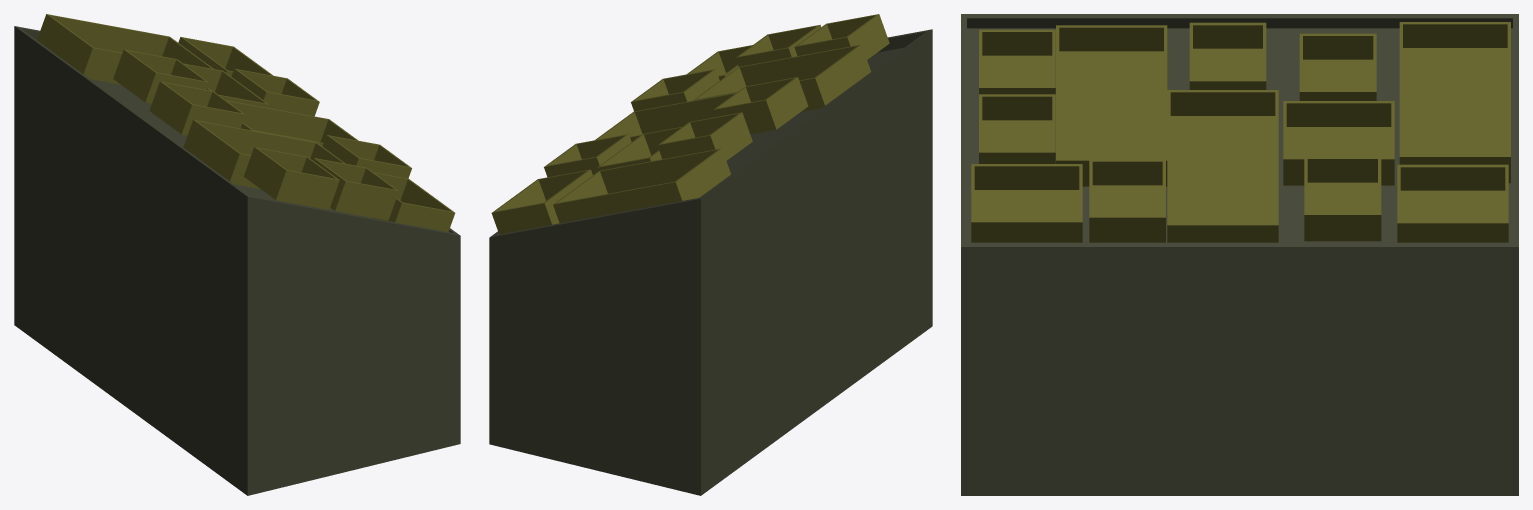
The model's file is Frutero.obj.
3 renders of one model, left to right at view 1: azimuth 30°, elevation 25°; view 2: azimuth 150°, elevation 25°; view 3: azimuth 270°, elevation 25°, orthographic. The views are drawn at different scales.
Visible parts, largest first — view 1: Cube.031; view 2: Cube.031; view 3: Cube.031.
Part boxes in pixels (<box>): Cube.031: <box>14,14,460,495</box>; Cube.031: <box>489,14,932,495</box>; Cube.031: <box>961,14,1518,495</box>.
Bounding box in the file's own units: 5.75 × 7.85 × 10.66.
